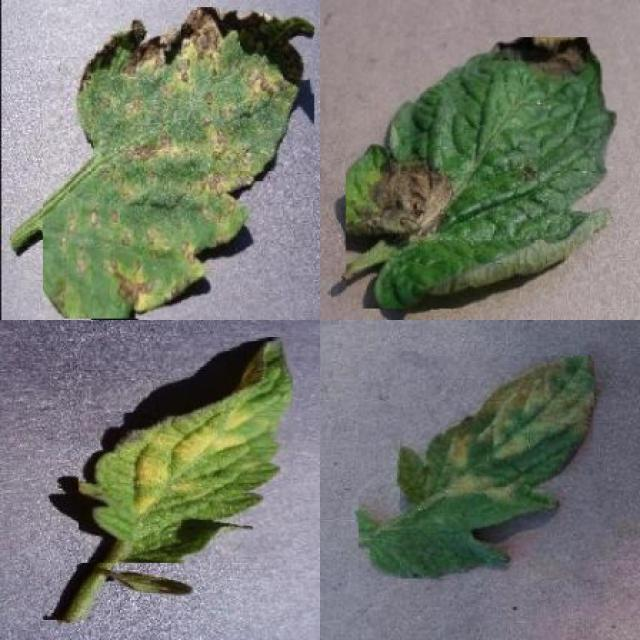Late Blight: (346, 37, 617, 309)
Leaf Mold: (359, 356, 594, 578), (78, 338, 293, 562)
Septoria: (43, 7, 314, 319)
